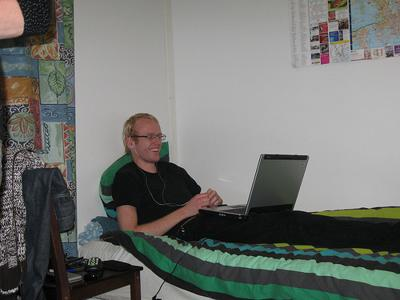person: (114, 113, 223, 246)
